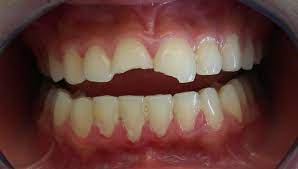normal: (144, 93, 172, 134), (82, 48, 113, 81), (196, 35, 221, 75), (173, 93, 198, 128), (199, 88, 222, 126), (218, 86, 241, 124), (64, 47, 83, 85), (53, 90, 73, 124), (222, 34, 241, 69), (48, 53, 67, 80), (242, 39, 254, 70)
rough: (155, 34, 193, 81), (111, 38, 154, 75), (119, 93, 146, 139), (94, 92, 117, 139), (71, 94, 93, 133)
